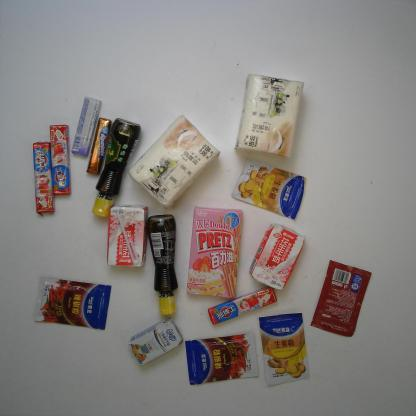Candy: (206, 285, 278, 324), (71, 97, 102, 156), (47, 121, 72, 193), (31, 142, 55, 214), (86, 119, 113, 174)
Dessert: (184, 207, 243, 299)
Milk: (249, 223, 305, 291), (103, 205, 149, 270), (130, 318, 182, 365)
Seasoner: (310, 259, 374, 339), (93, 118, 141, 219), (32, 274, 112, 332), (184, 332, 266, 386), (232, 163, 305, 222), (257, 312, 310, 386), (144, 215, 180, 316)
Tissue: (129, 115, 221, 208), (236, 73, 305, 159)
